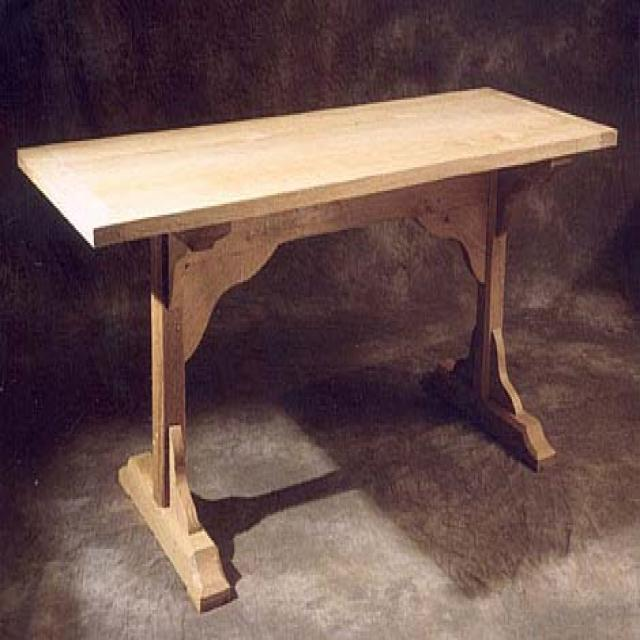table: (15, 79, 623, 618)
